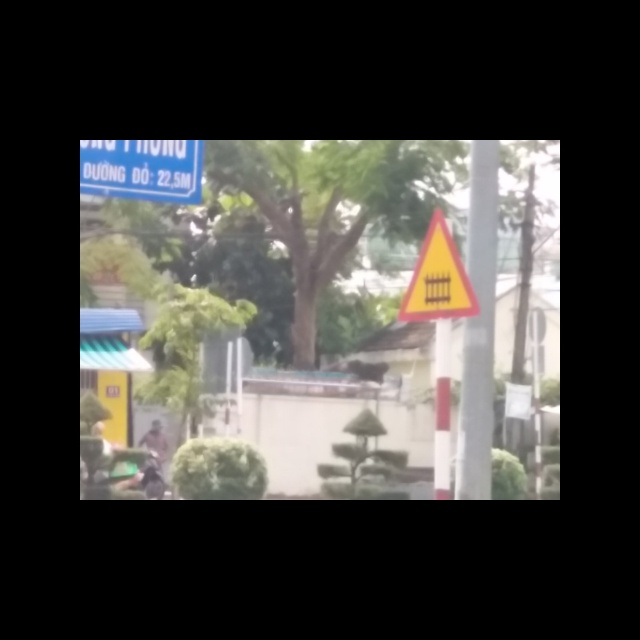Giao nhau với đường sắt có rào chắn: (398, 206, 488, 321)
